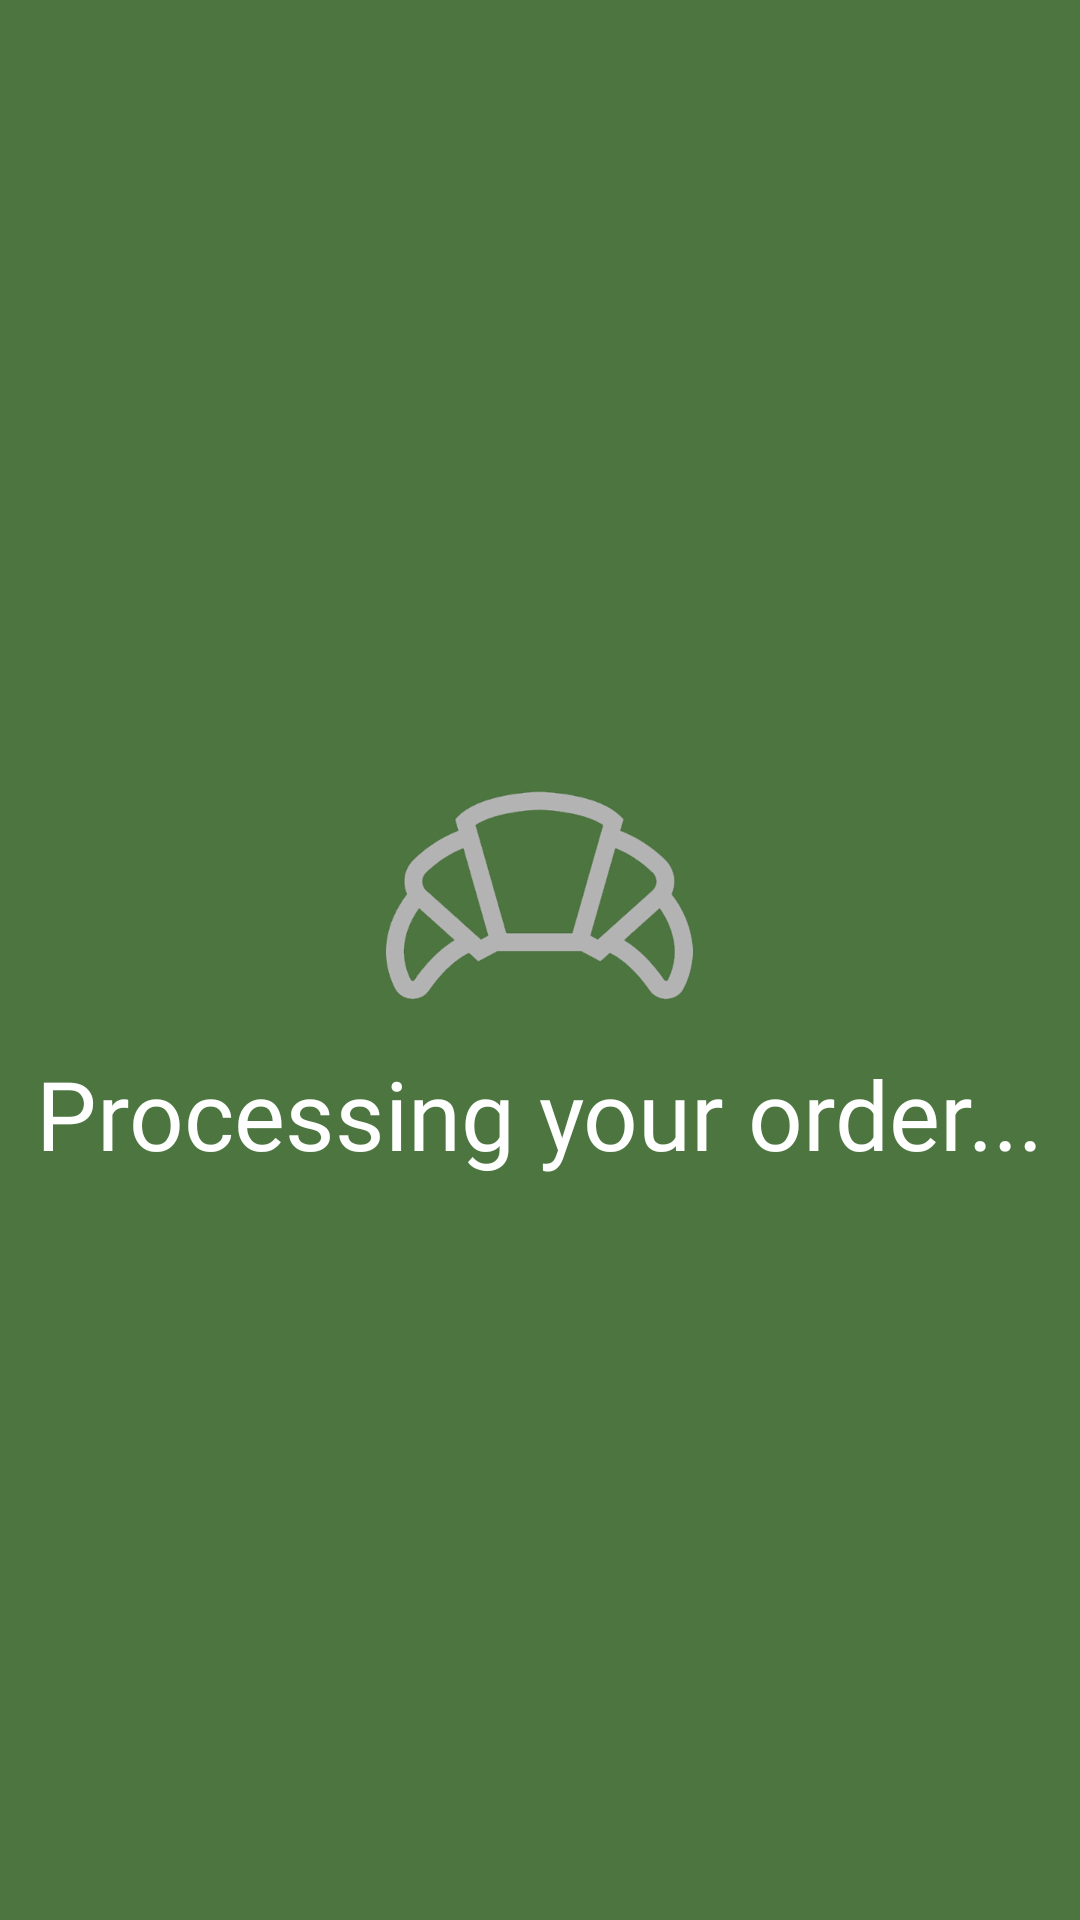

Icons on this 1080px x 1920px Android screen, each with the point to tap as point (x, y):
croissant: point (539, 895)
